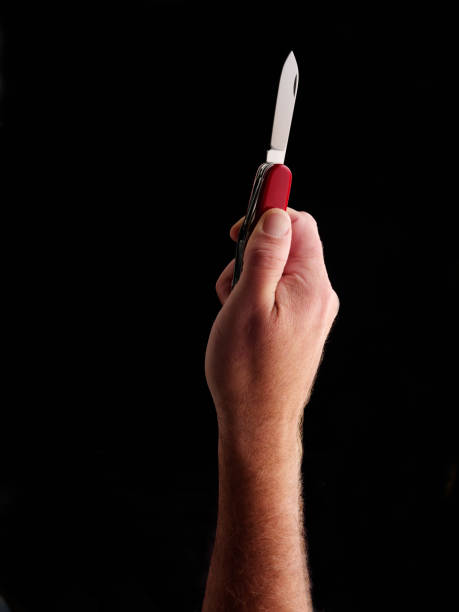knife: (262, 47, 301, 167)
